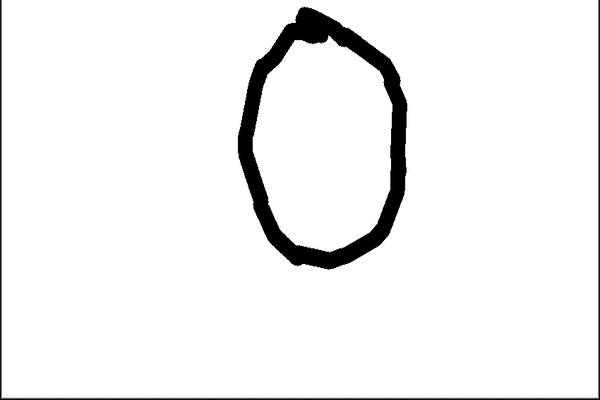O: (219, 4, 417, 276)
